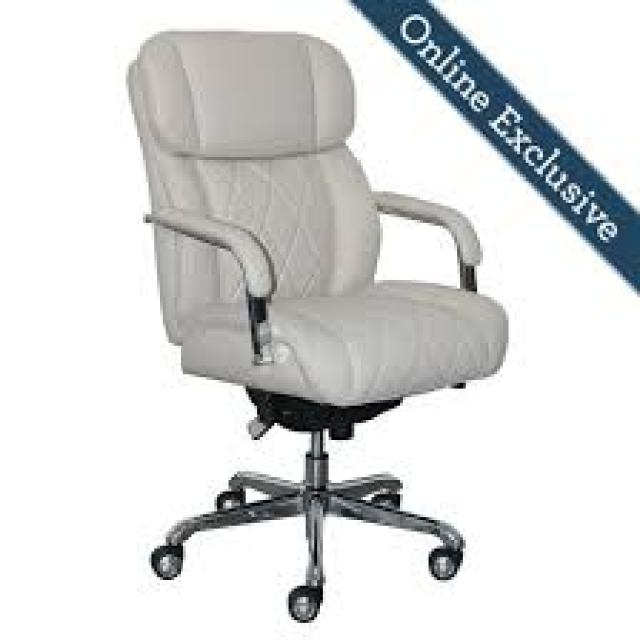chair: (91, 8, 529, 640)
